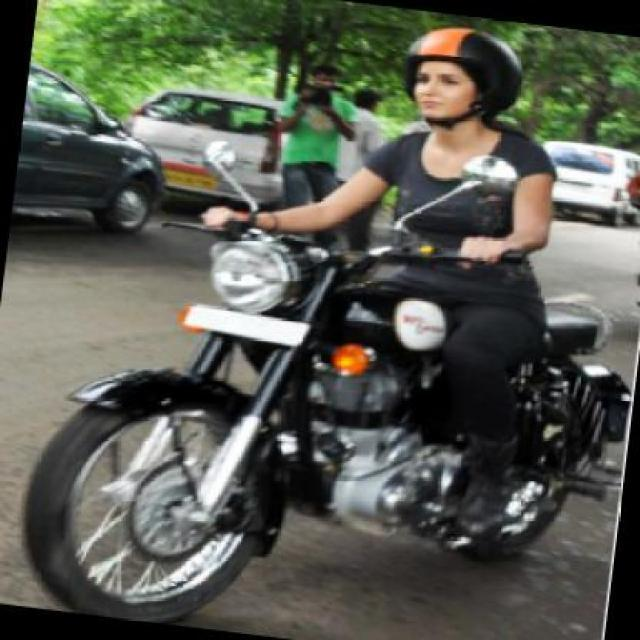Helmet: (385, 16, 524, 144)
